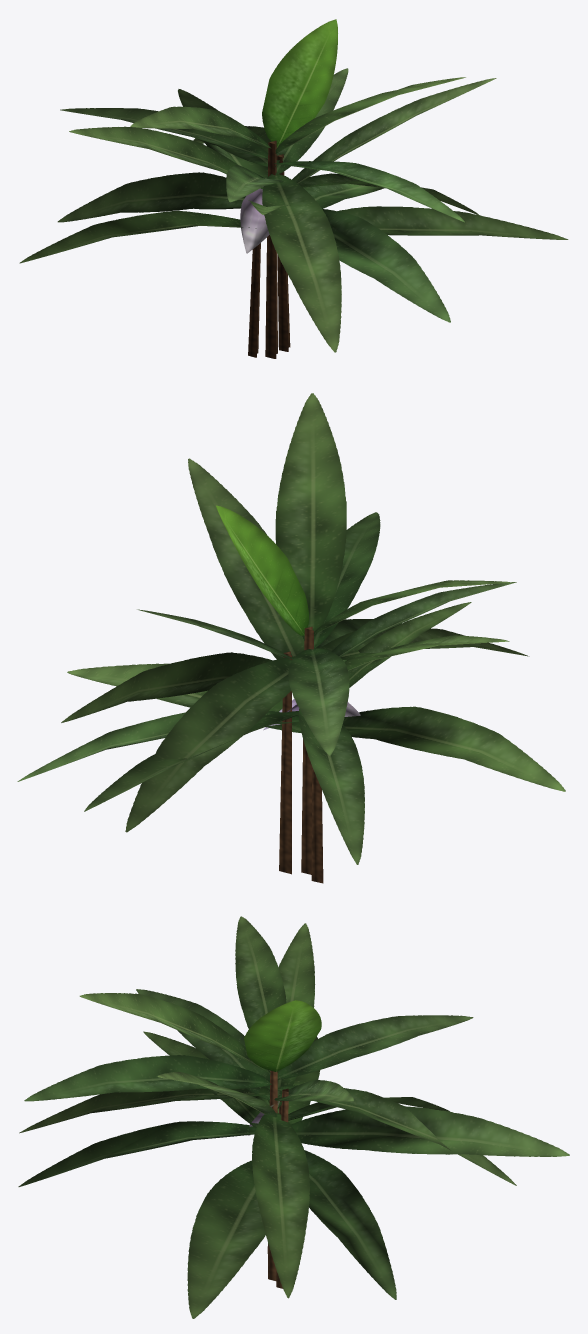
Rendered from mm8_deco_plant15.glb.
The picture shows the model from 3 angles, top to bottom: view 1: azimuth 30°, elevation 25°; view 2: azimuth 150°, elevation 25°; view 3: azimuth 270°, elevation 25°; orthographic projection. The views are drawn at different scales.
Parts seen in each view (by area): view 1: Plant; view 2: Plant; view 3: Plant.
Boxes of the visible parts, <box> form: Plant: <box>19,19,568,358</box>; Plant: <box>17,393,565,883</box>; Plant: <box>18,916,569,1318</box>.
Size of the model in its own units: 1.02 by 0.6454 by 0.9808.
1 material, 1 textured.
